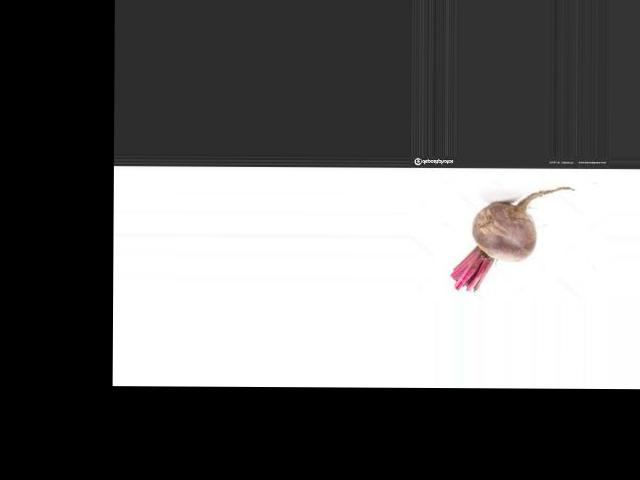beet: (451, 186, 575, 291)
